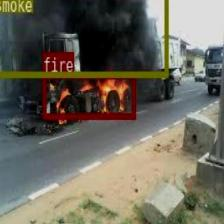fire: (42, 72, 135, 118)
smoke: (0, 0, 167, 76)
